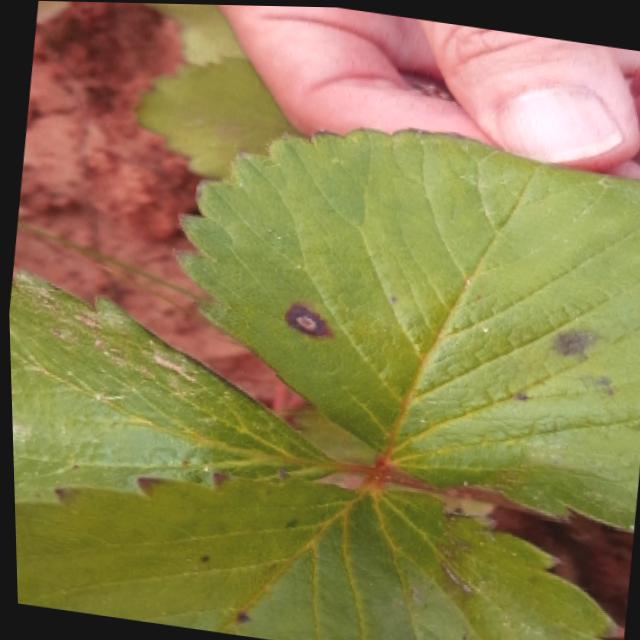Leaf Spot: (171, 125, 640, 529), (12, 463, 616, 640)
